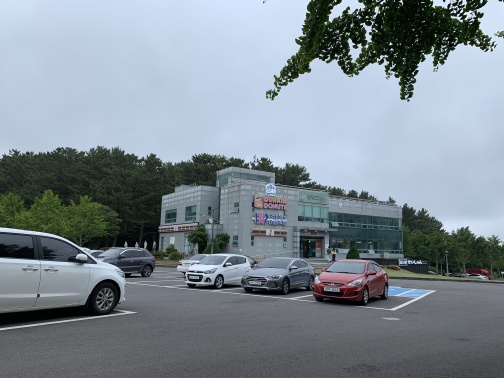Global House: (153, 163, 426, 274)
